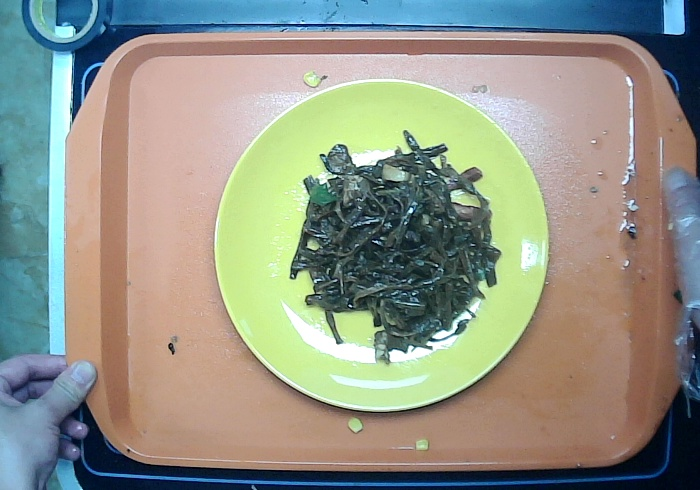HZYJPL-Huang_Se_Yuan_Pan: (210, 73, 556, 418)
